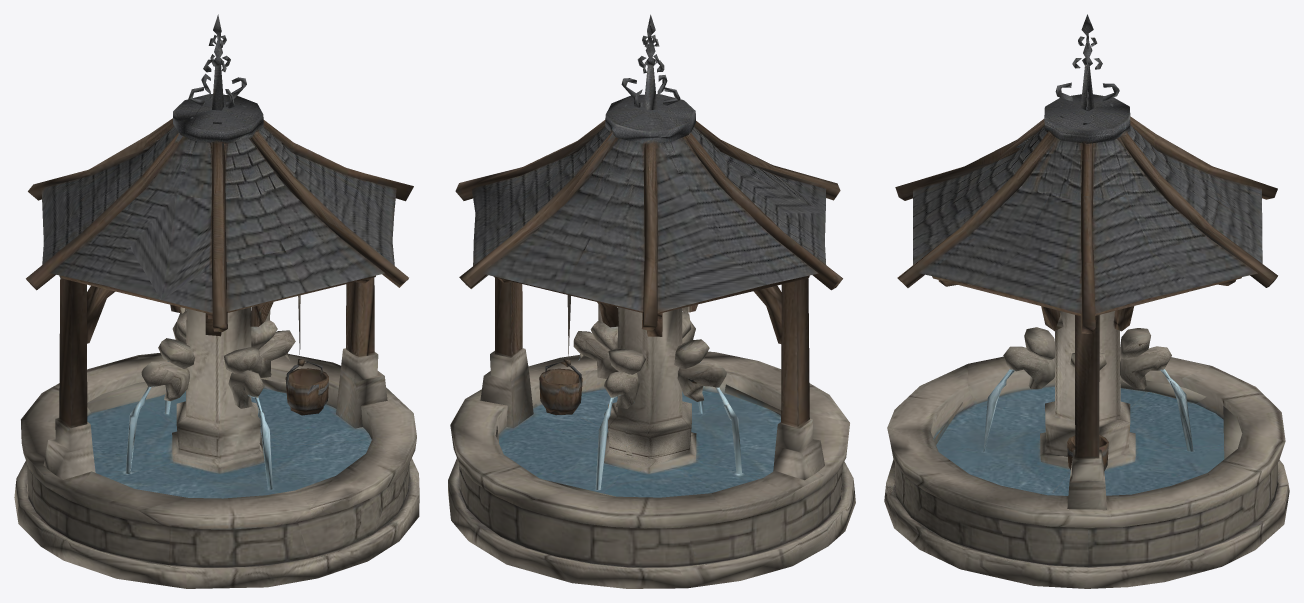
The model's file is Aurion_Village_Fountain_LOD1.glb.
3 renders of one model, left to right at view 1: azimuth 30°, elevation 25°; view 2: azimuth 150°, elevation 25°; view 3: azimuth 270°, elevation 25°, orthographic.
Parts seen in each view (by area): view 1: Mesh_0.002; view 2: Mesh_0.002; view 3: Mesh_0.002.
Part boxes in pixels (x1,y1,x2,y2): Mesh_0.002: [14, 14, 419, 588]; Mesh_0.002: [448, 14, 855, 588]; Mesh_0.002: [884, 14, 1289, 588].
Bounding box in the file's own units: 2.58 × 3.12 × 2.35.
1 material, 1 textured.
